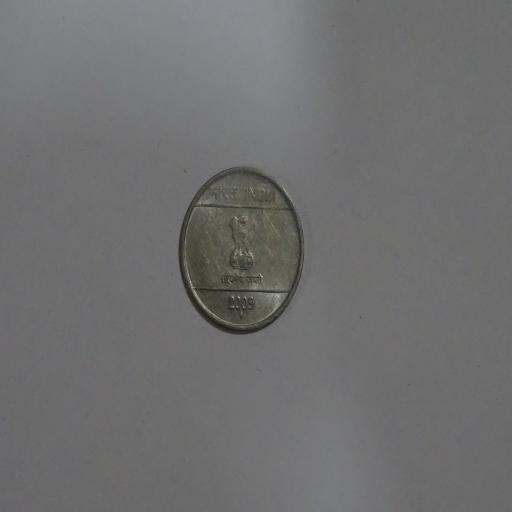rupee1: (177, 165, 306, 334)
